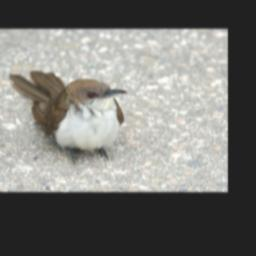Cuckoo: (9, 70, 129, 166)
